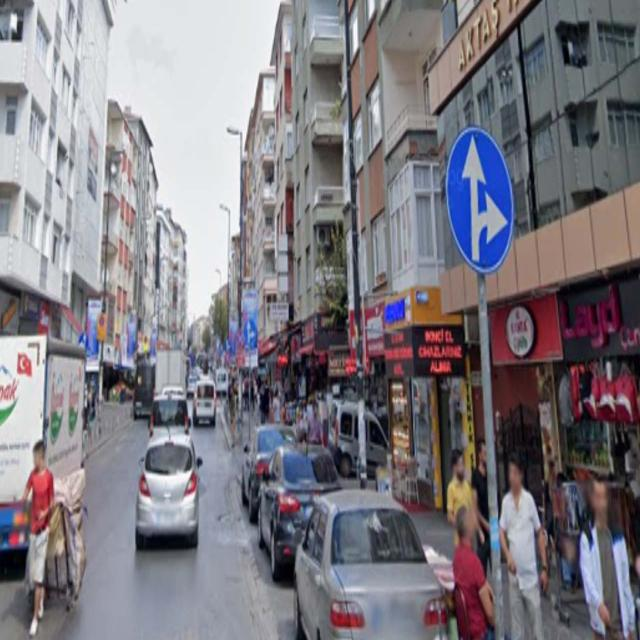ilerisag: (448, 129, 514, 267), (244, 317, 256, 345)
